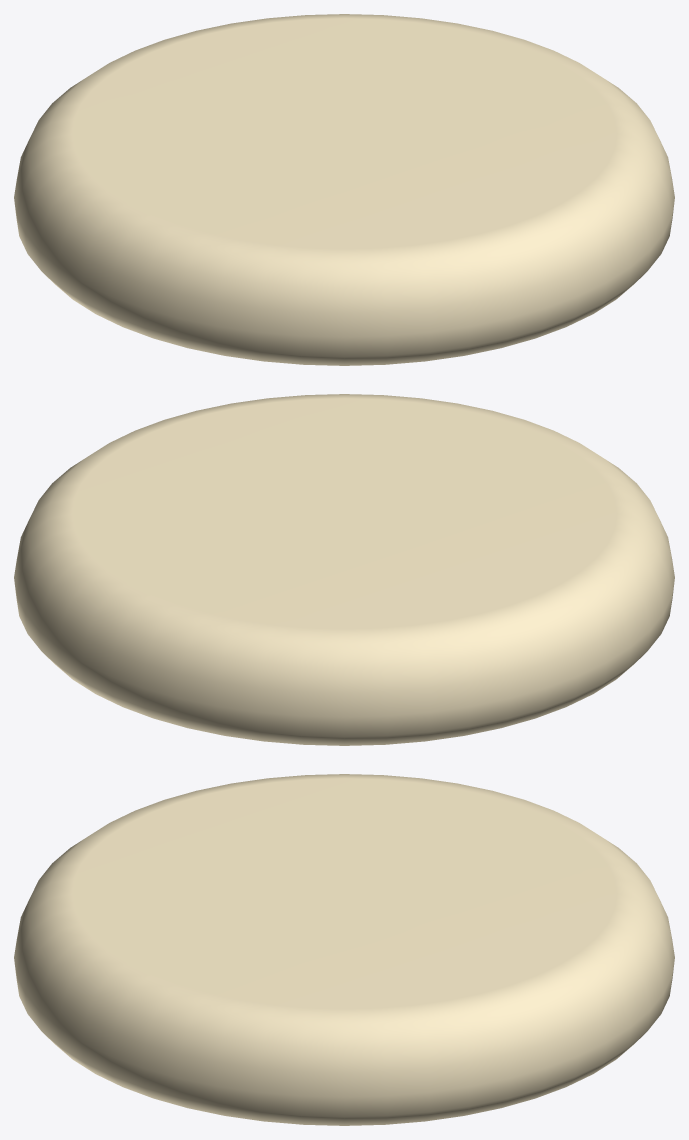
The model's file is WM_PathDot.fbx.
3 renders of one model, top to bottom at view 1: azimuth 30°, elevation 25°; view 2: azimuth 150°, elevation 25°; view 3: azimuth 270°, elevation 25°, orthographic.
Parts seen in each view (by area): view 1: WM_PathDot; view 2: WM_PathDot; view 3: WM_PathDot.
Boxes of the visible parts, box(x1,y1,x2,y2) form: WM_PathDot: box(14, 14, 674, 365); WM_PathDot: box(14, 394, 674, 745); WM_PathDot: box(14, 774, 674, 1125).
Size of the model in its own units: 0.3421 by 0.06 by 0.3421.
